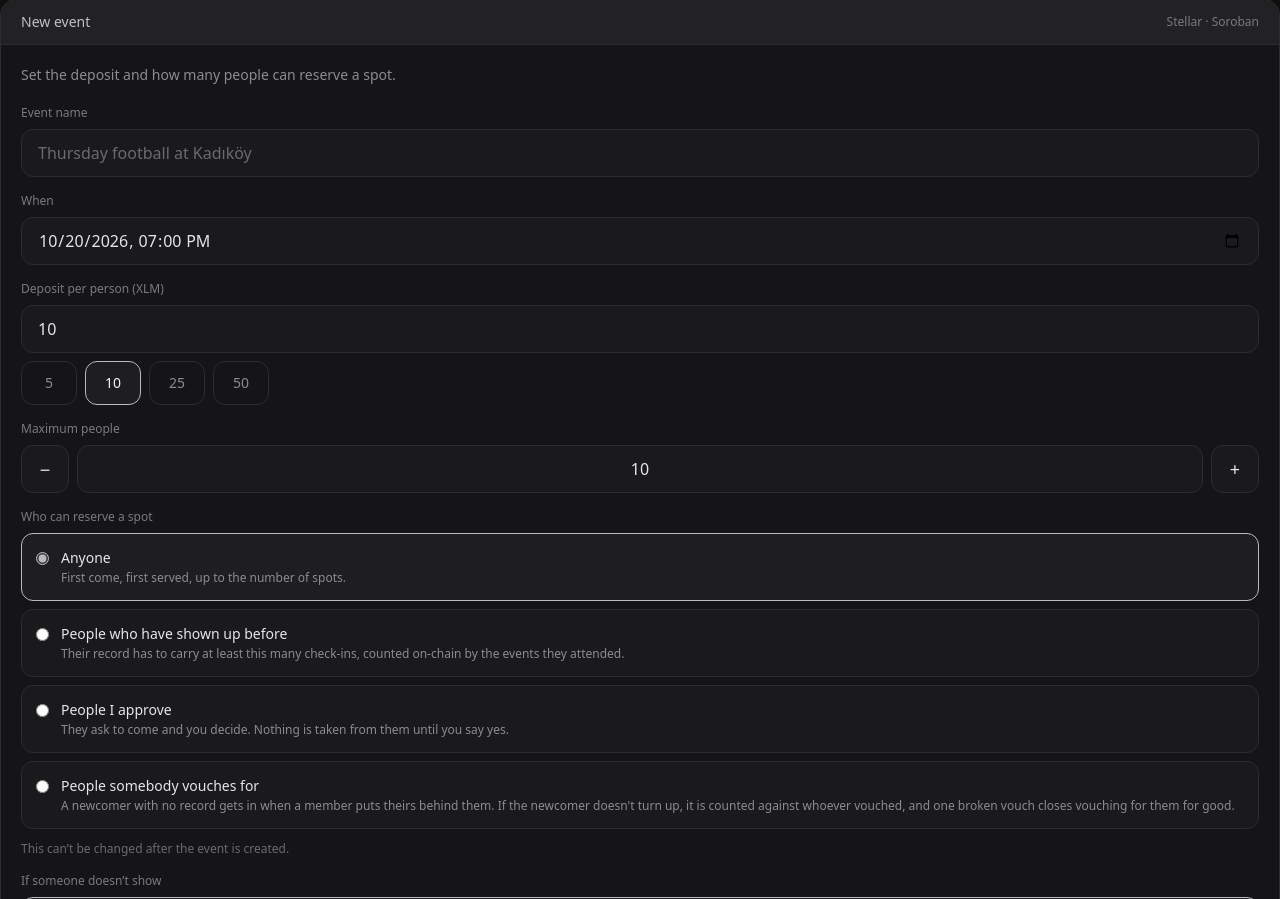
Test case: CreateEvent — the controls that replace typing › keeps the funding notice in step with the spot count
Step 1. Click the button named "one more spot" → click(1235, 469), box [1211,445,1259,493]
(page scrolled)
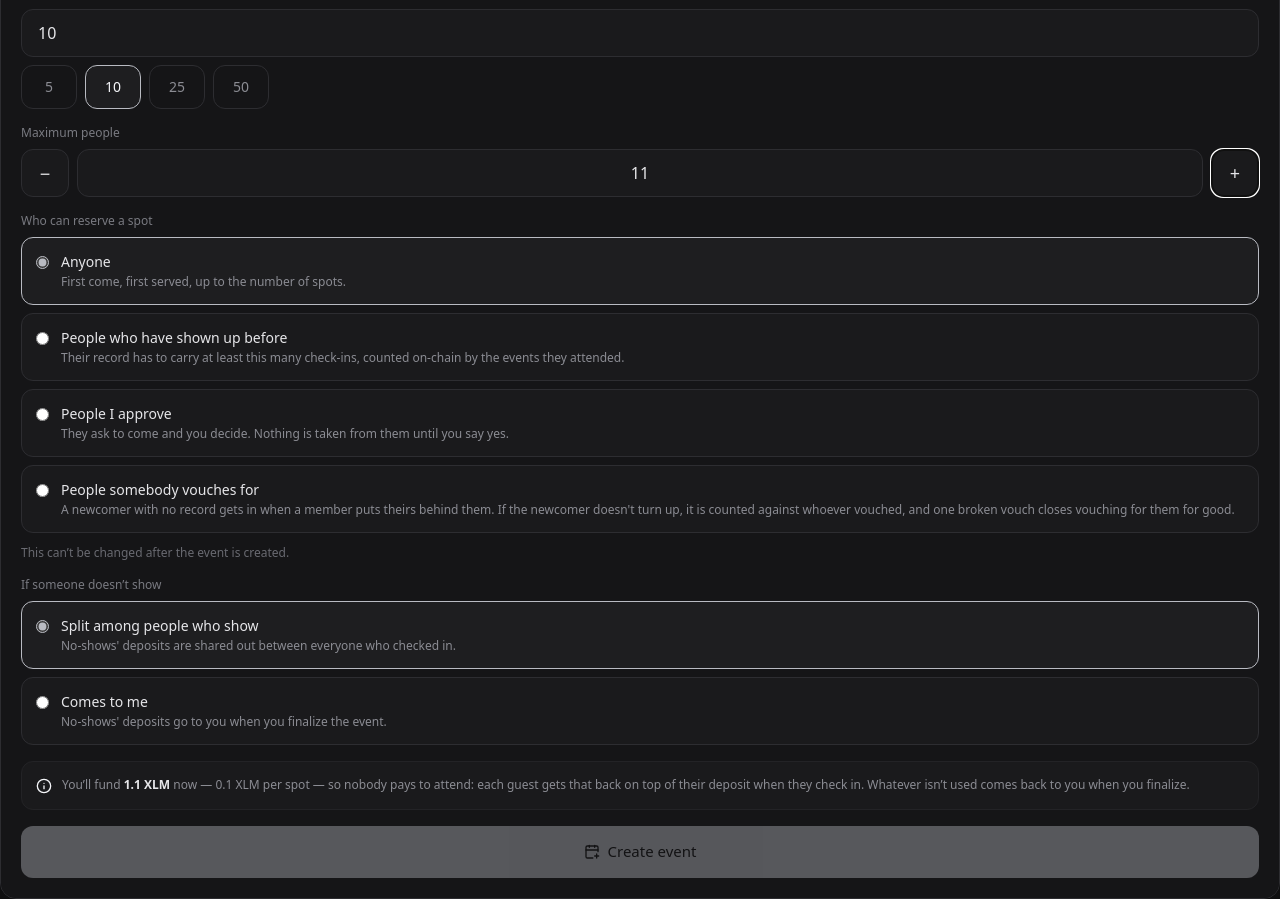
expect the text "1.1 XLM" is shown: met, box [124,776,170,793]
